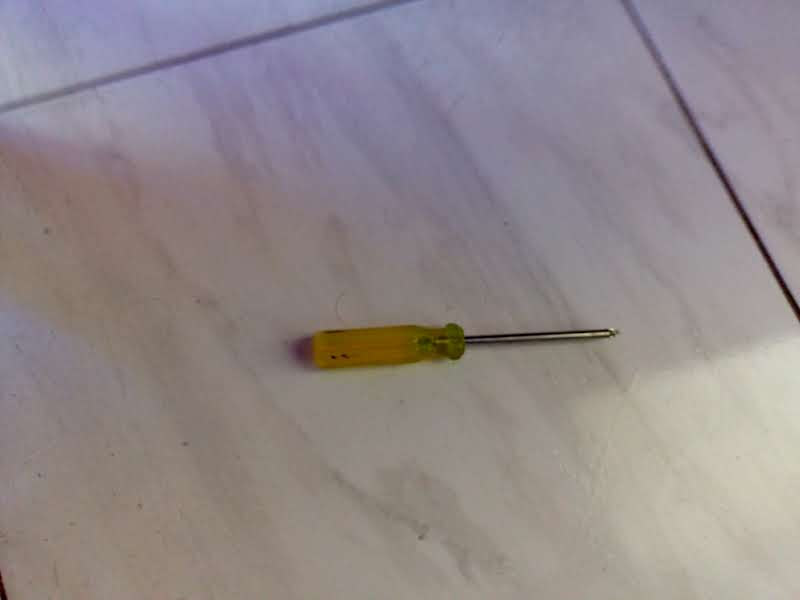Destornillador: (313, 324, 615, 368)
